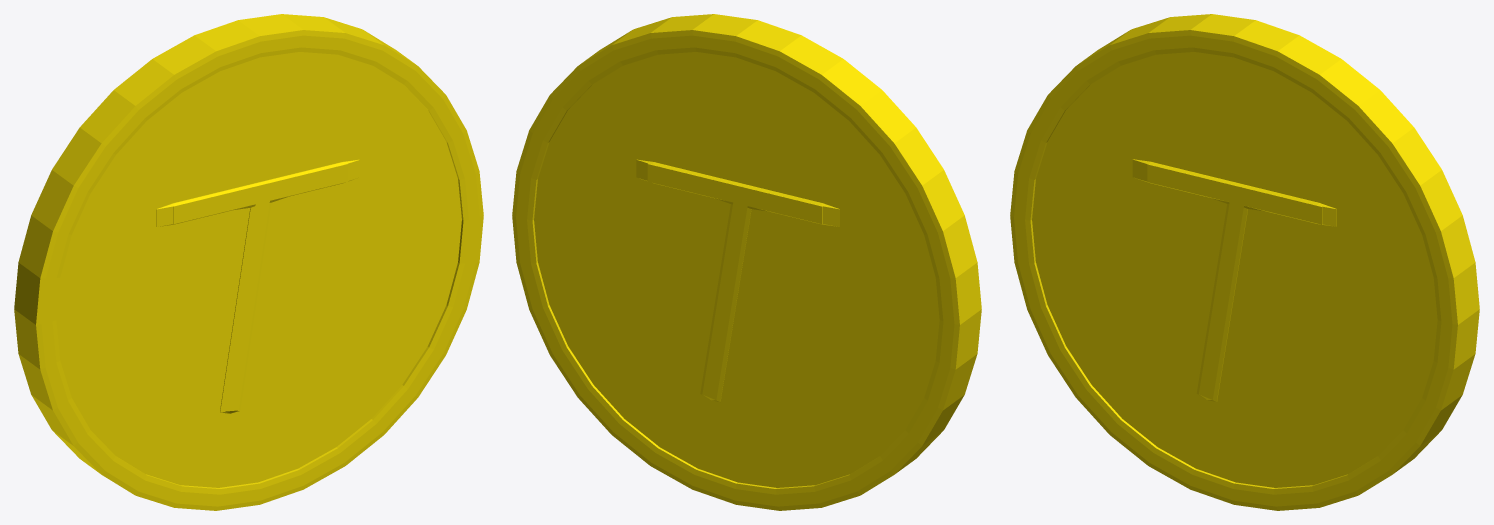
The model's file is Coin.fbx.
3 renders of one model, left to right at view 1: azimuth 30°, elevation 25°; view 2: azimuth 150°, elevation 25°; view 3: azimuth 330°, elevation 25°, orthographic.
Parts seen in each view (by area): view 1: Coin, 立方体; view 2: Coin, 立方体; view 3: Coin, 立方体.
Boxes of the visible parts, x1,y1,x2,y2 form: Coin: [14, 14, 483, 510]; 立方体: [173, 163, 348, 224]; Coin: [512, 14, 981, 510]; 立方体: [647, 163, 822, 224]; Coin: [1010, 14, 1479, 510]; 立方体: [1147, 164, 1322, 224].
Bounding box in the file's own units: 220 × 220 × 20.
